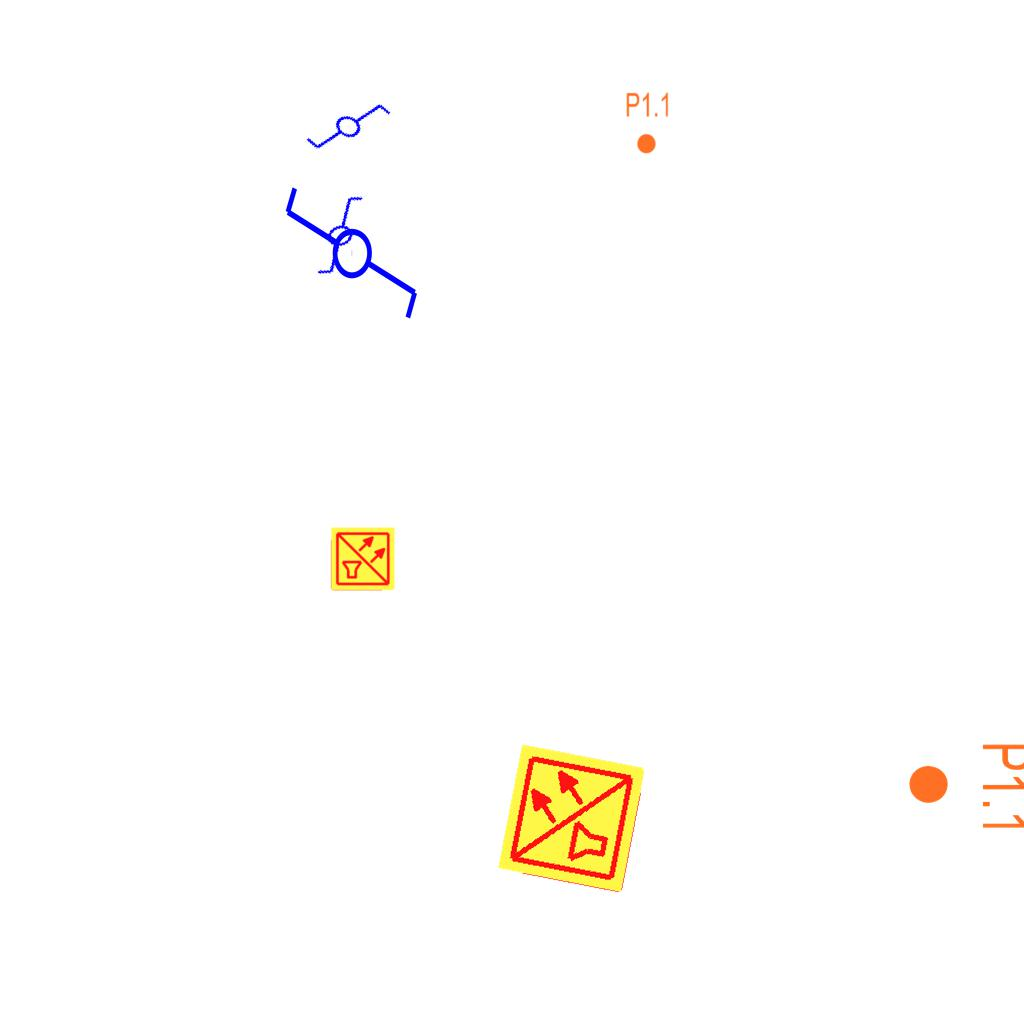Downlight_LED_Einbauleuchten_Flur: (906, 741, 1024, 834), (625, 91, 671, 155)
OKW_Multisensormelder_(Kombination_optischer_Rauch-Kahlenmonoxid_Waerme-Melder): (494, 740, 650, 896), (330, 526, 396, 592)
Wechselschalter: (278, 183, 422, 340), (294, 75, 396, 173), (287, 189, 385, 283)
